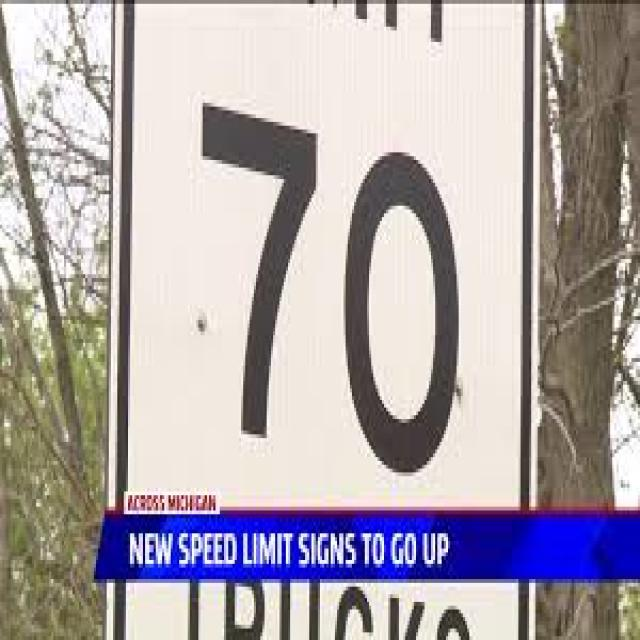speedLimit70: (112, 2, 532, 627)
